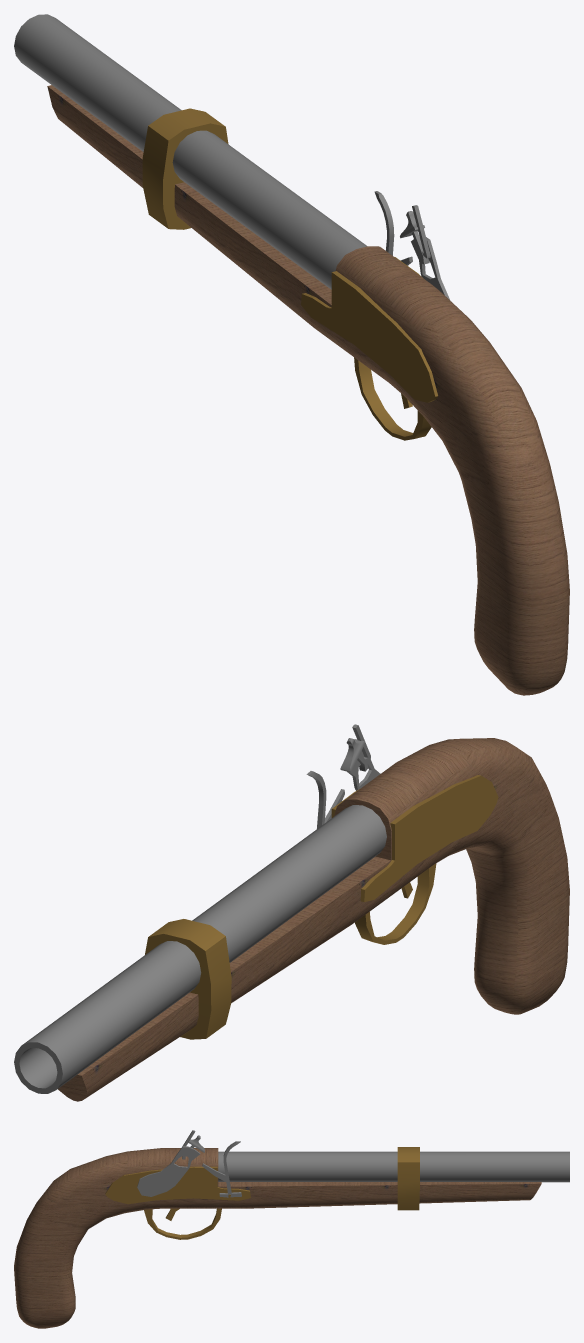
The model's file is Character.Handgun.01.fbx.
3 renders of one model, top to bottom at view 1: azimuth 30°, elevation 25°; view 2: azimuth 150°, elevation 25°; view 3: azimuth 270°, elevation 25°, orthographic. The views are drawn at different scales.
Parts seen in each view (by area): view 1: Cube; view 2: Cube; view 3: Cube.
Boxes of the visible parts, x1,y1,x2,y2 form: Cube: [14, 14, 569, 695]; Cube: [14, 724, 569, 1101]; Cube: [14, 1130, 569, 1328].
Bounding box in the file's own units: 3.01 × 15.04 × 37.16.
